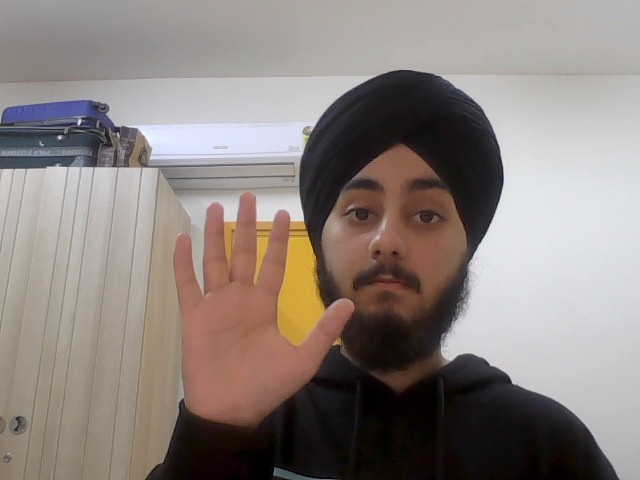Hello: (172, 195, 355, 419)
